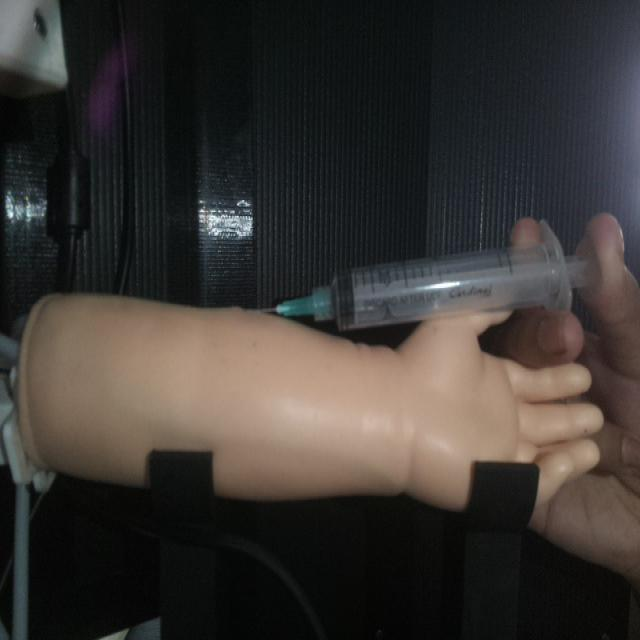Outside: (246, 215, 604, 334)
